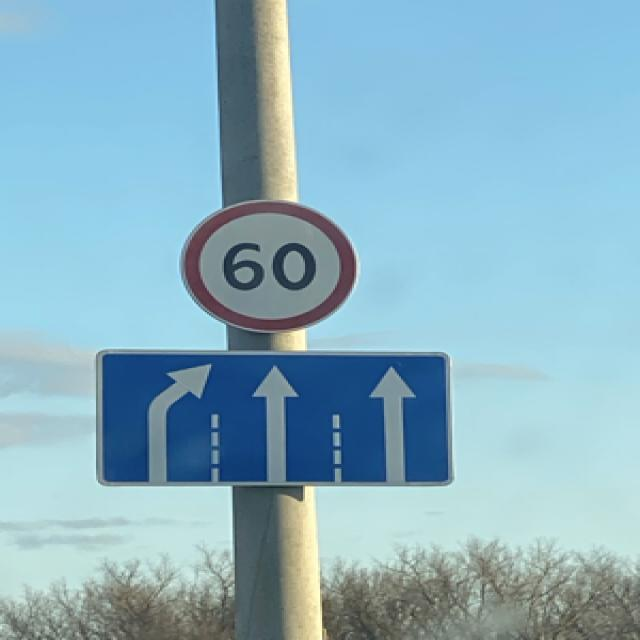speedlimit: (175, 197, 356, 331)
